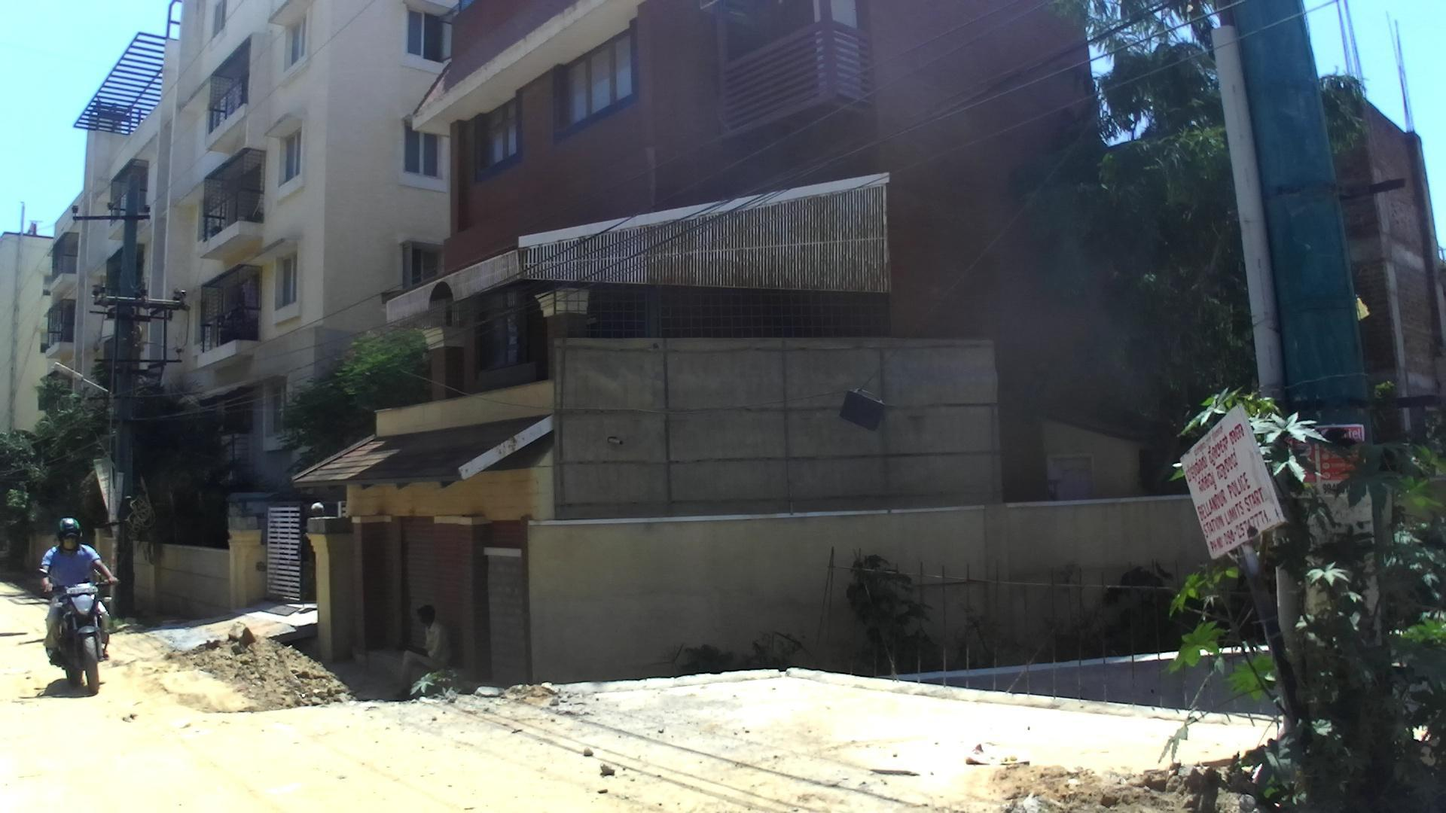streetlight: (51, 363, 114, 395)
